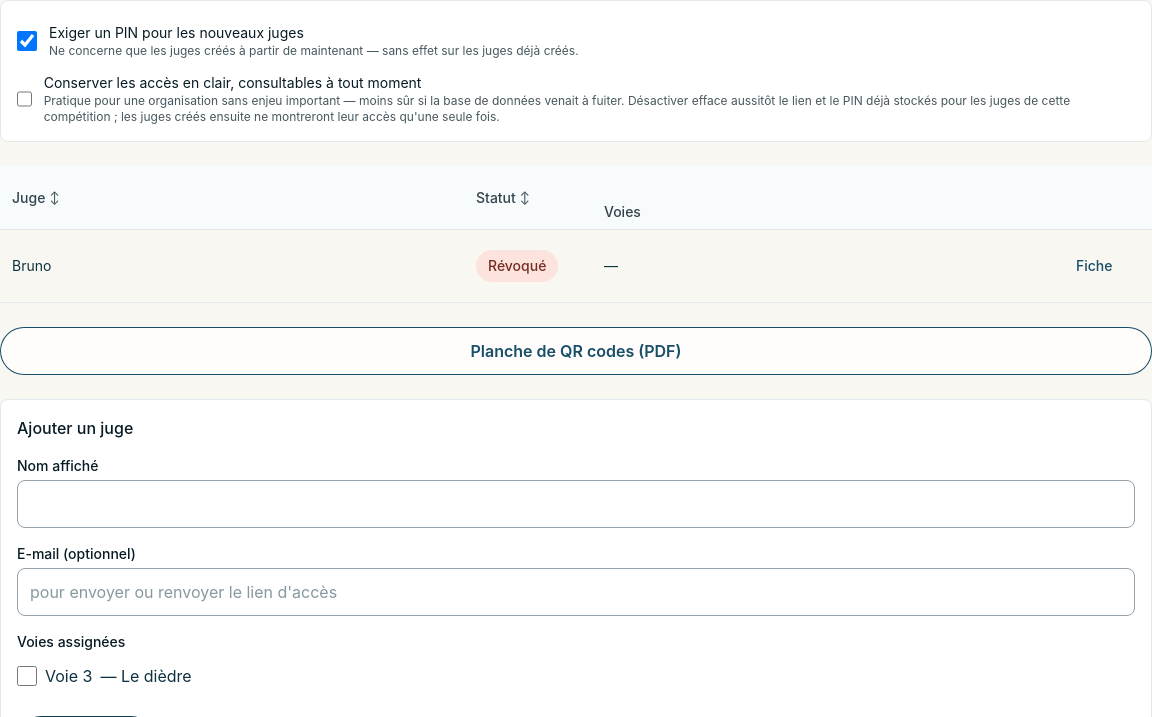
Test: JudgesTab — fiche du juge (Lot 19) › ne montre aucun QR pour un juge révoqué, même avec son jeton en mémoire
Click the button "Fiche": (1094, 266) x1=1068 y1=242 x2=1120 y2=290
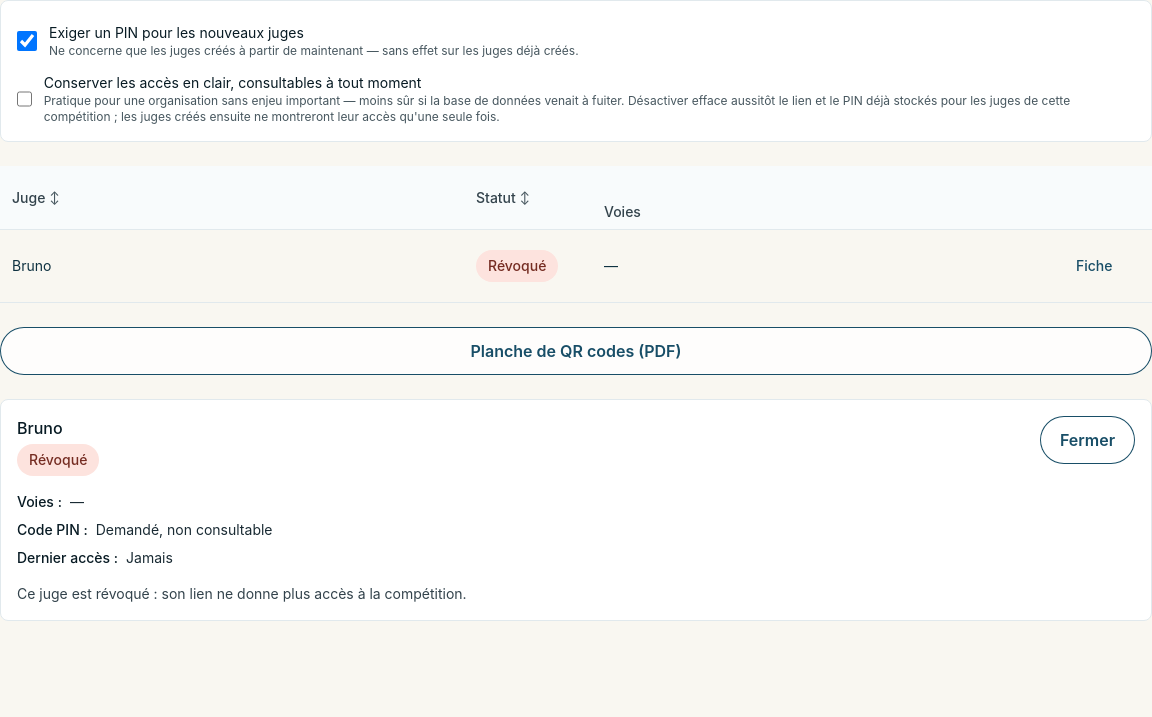
Check: the element with test id "judge-card" shows "son lien ne donne plus accès", box x1=17 y1=585 x2=467 y2=602
